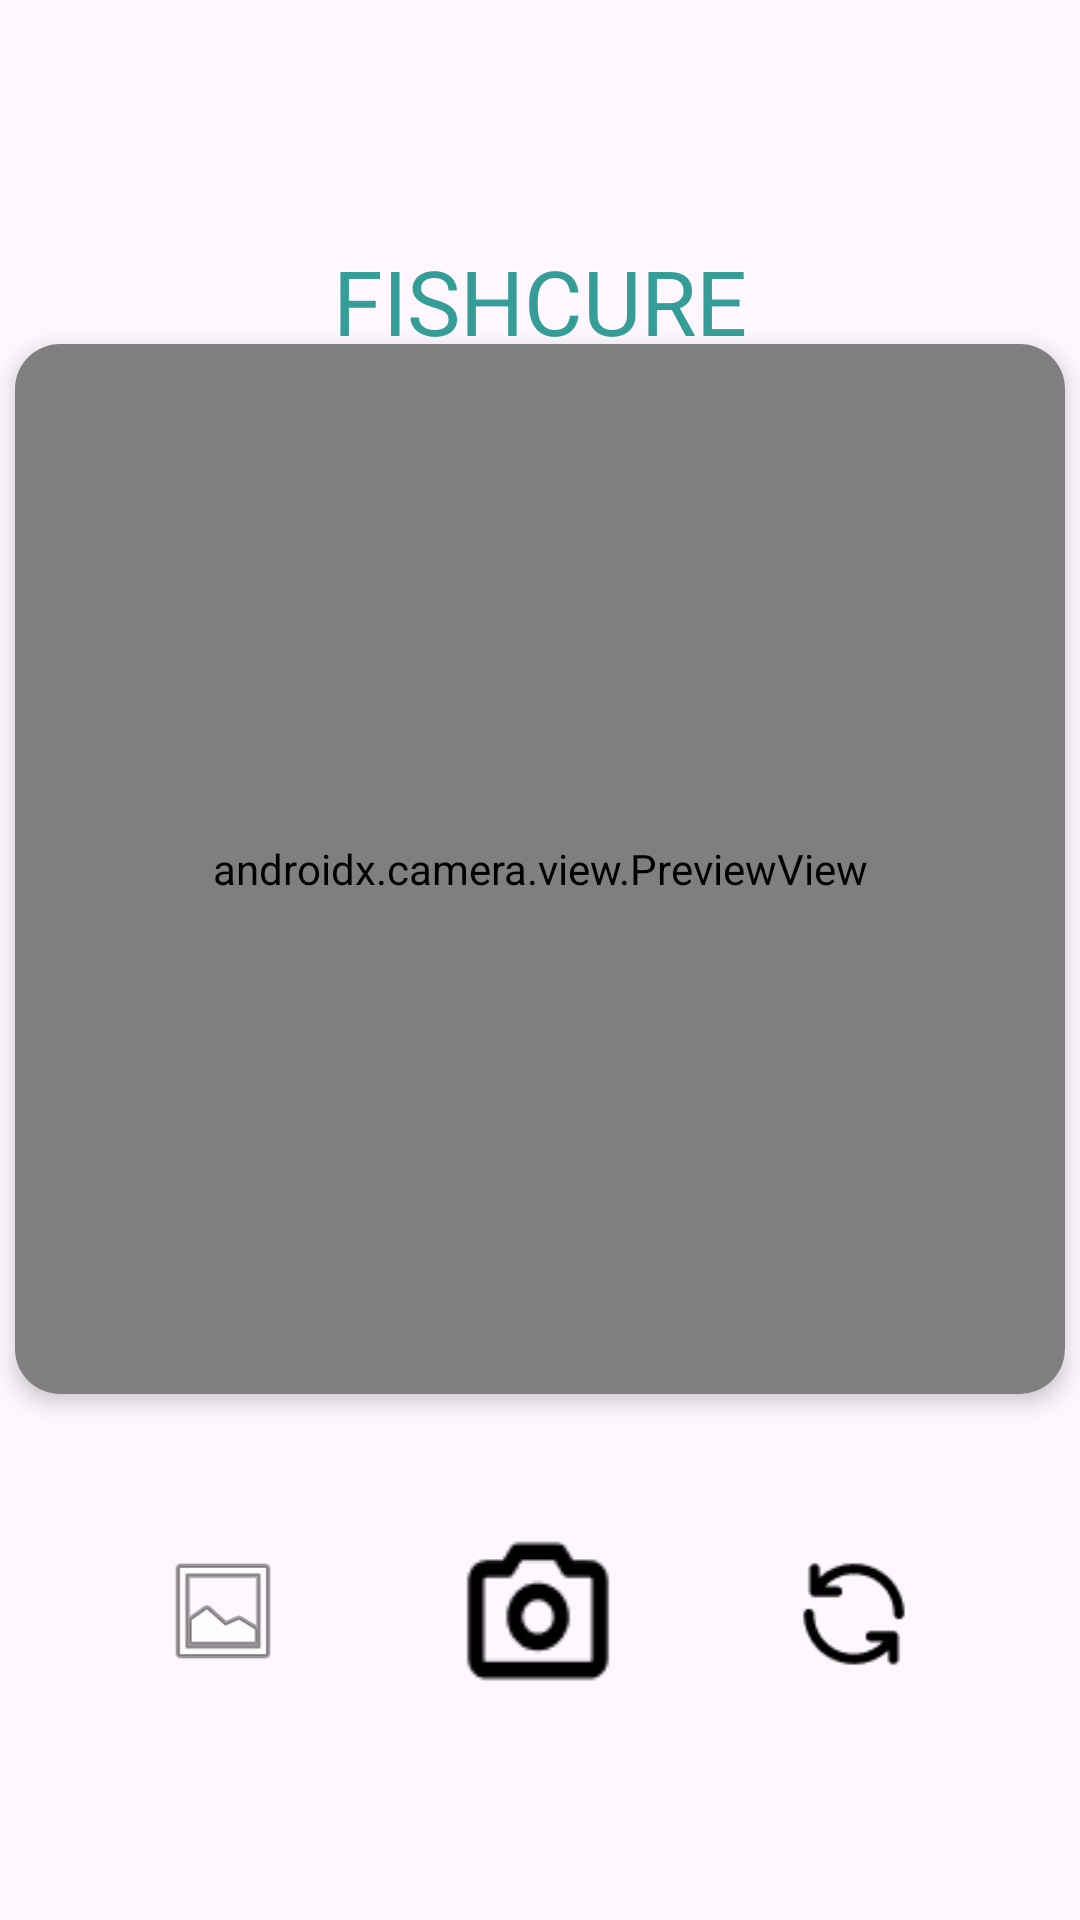

Icons on this 1080*1920 Android screen, each with its box as (x1, y1, x2, y2):
gallery: (175, 1563, 271, 1659)
